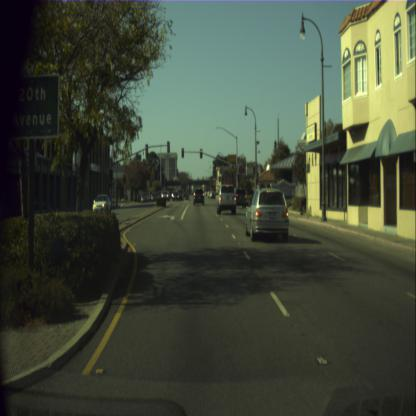Red: (252, 162, 256, 174), (236, 170, 240, 180), (182, 147, 184, 158), (200, 148, 202, 158)
